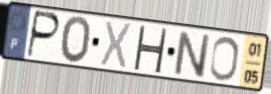H: (131, 24, 169, 76)
N: (173, 29, 211, 81)
O: (59, 15, 93, 66), (208, 35, 240, 83)
P: (25, 9, 62, 60)
X: (98, 19, 134, 71)
